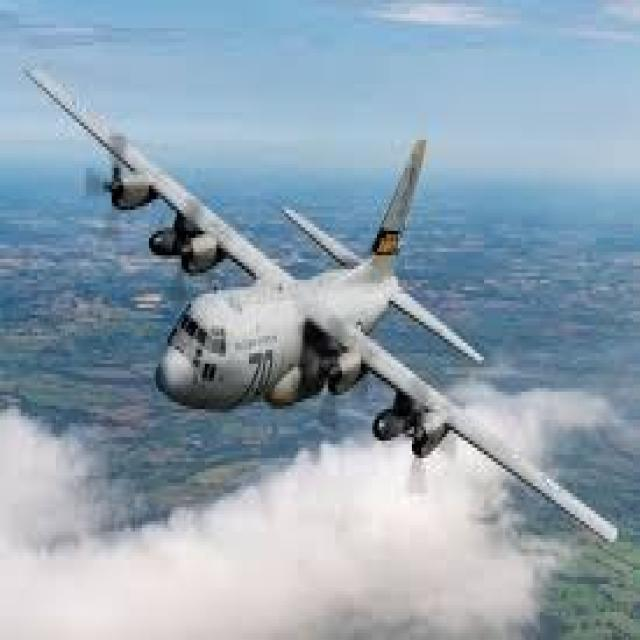C130: (9, 32, 640, 600)
